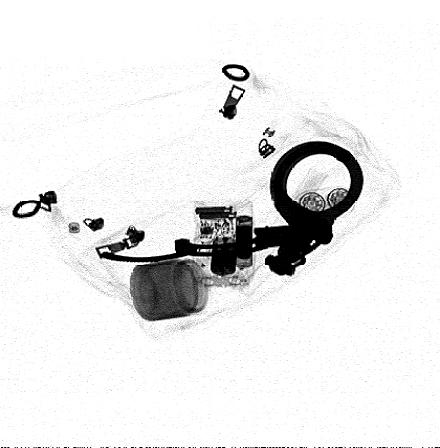HandCuffs: (99, 141, 365, 277)
